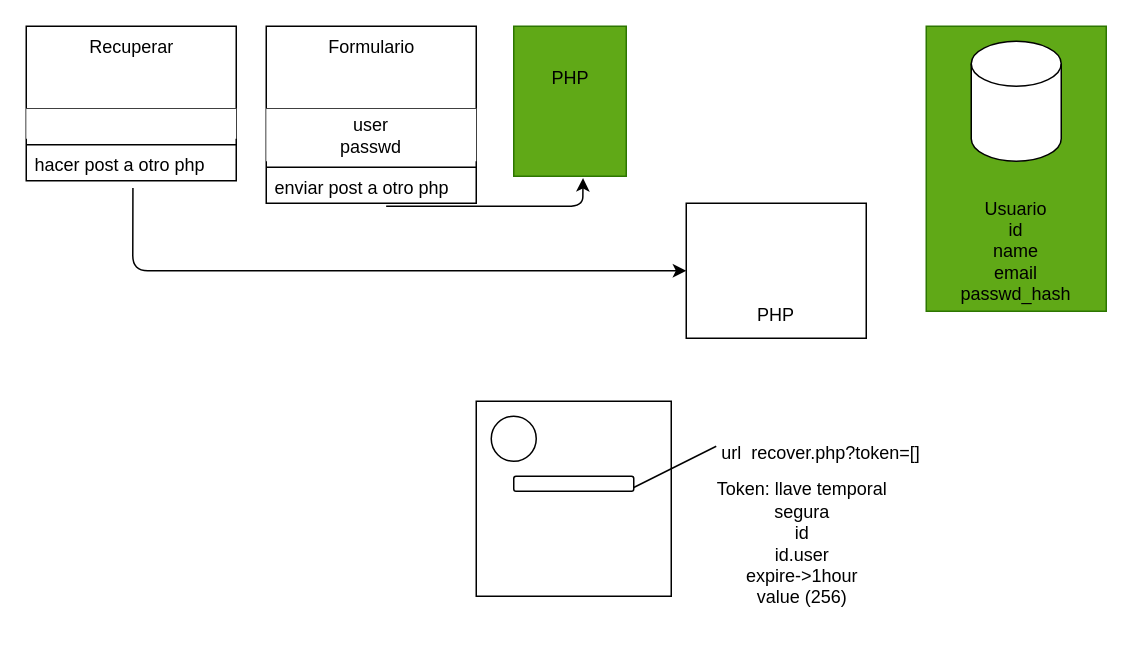
The diagram is 1133 pixels wide and 653 high, and some of its shapes have lost their labels. The shapes that lost their labels are listed below. From the top down, each one's centre as x and y in pixels, then its label:
At (131,123): "email".
At (775,270): "Select usuario Insert token mail->".
